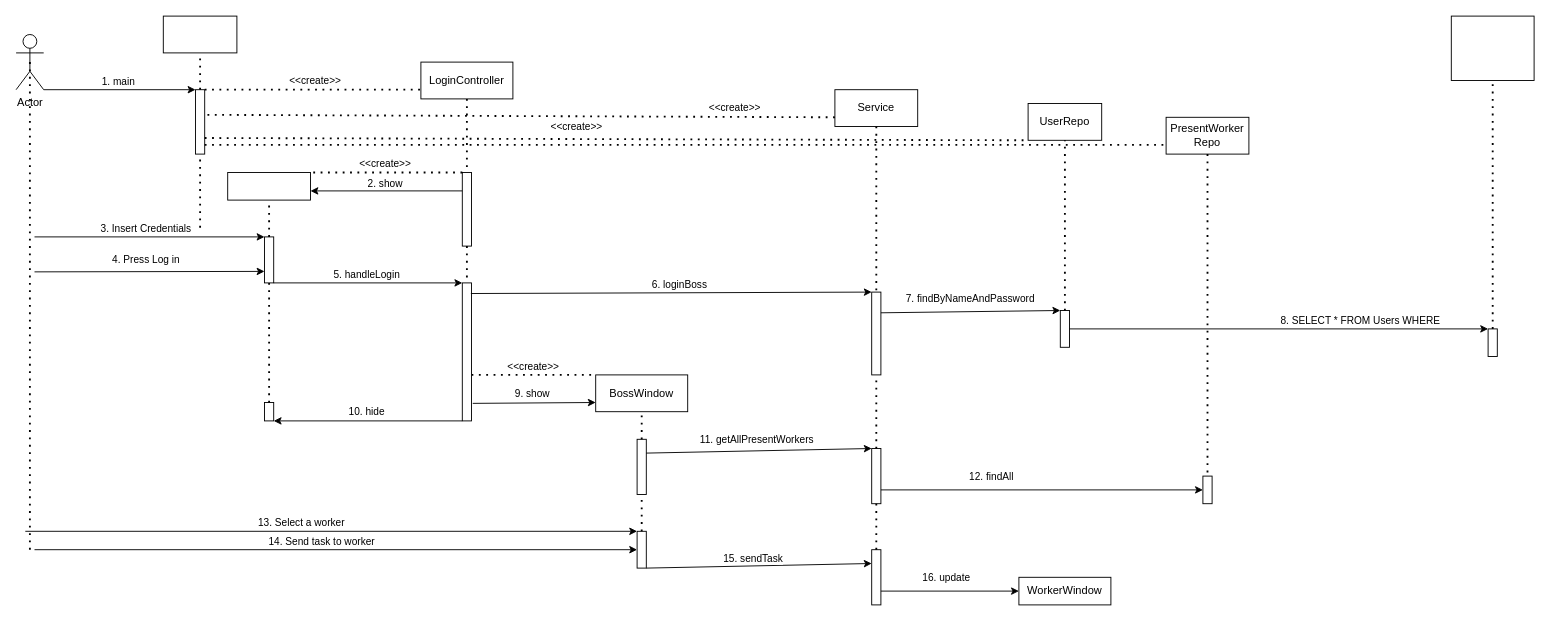
Some shapes in this 1550 by 621 pixel diagram are drawn without their labels. Here are the shapes that lost their labels. From the top down, the centre of each, then its label:
At pixel 199 34: "<<Boundary>> Main".
At pixel 1492 47: "Database".
At pixel 268 186: "LoginWindow".
